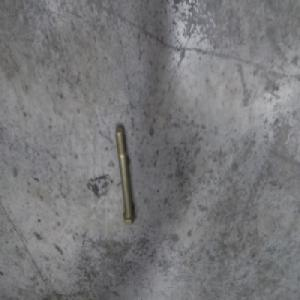Bolt: (116, 124, 136, 226)
